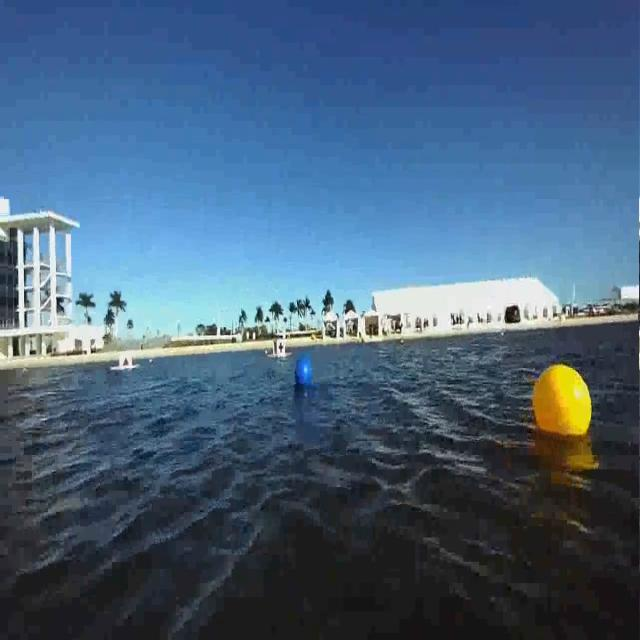blue-buoy: (292, 332, 319, 390)
yellow-buoy: (537, 368, 598, 444)
